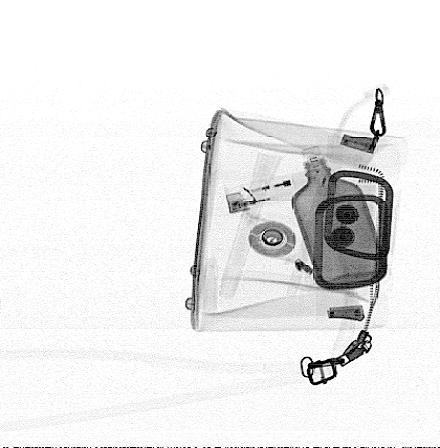Lighter: (223, 174, 298, 215)
